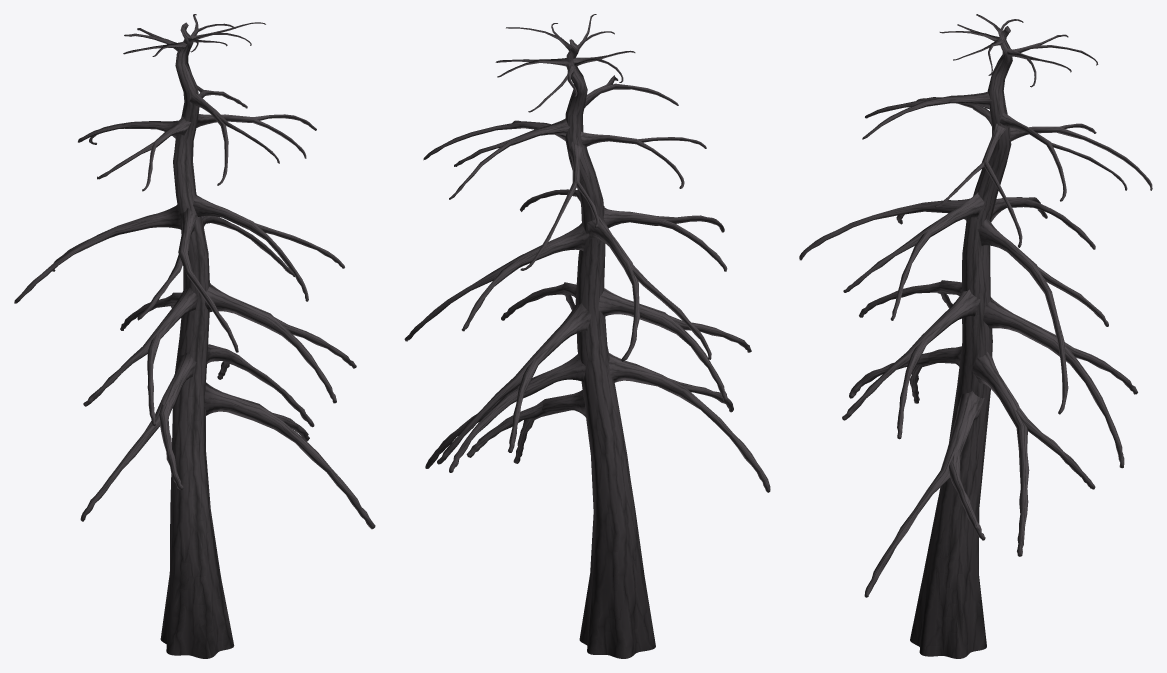
Rendered from Dead_Tree_2.gltf.
3 views of the same model, side by side, from view 1: azimuth 30°, elevation 25°; view 2: azimuth 150°, elevation 25°; view 3: azimuth 270°, elevation 25° (orthographic). The views are drawn at different scales.
Visible parts, largest first — view 1: DeadTree_5; view 2: DeadTree_5; view 3: DeadTree_5.
Part boxes in pixels (left/top/right/bottom): DeadTree_5: left=14, top=14, right=375, bottom=658; DeadTree_5: left=404, top=14, right=770, bottom=658; DeadTree_5: left=799, top=14, right=1152, bottom=658.
Bounding box in the file's own units: 8.36 × 16.44 × 8.41.
Materials: 1 (1 with a texture image).
